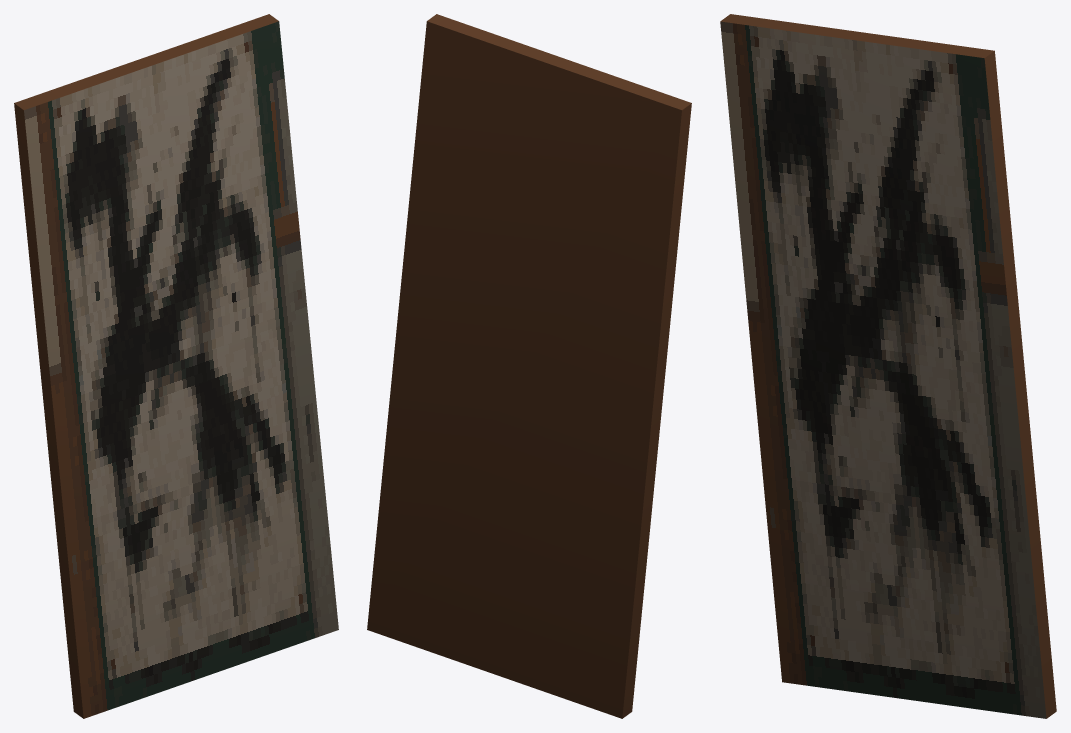
The model's file is prop_shuji-2.glb.
3 views of the same model, side by side, from view 1: azimuth 30°, elevation 25°; view 2: azimuth 150°, elevation 25°; view 3: azimuth 330°, elevation 25° (orthographic). The views are drawn at different scales.
Visible parts, largest first — view 1: prop_shuji-2; view 2: prop_shuji-2; view 3: prop_shuji-2.
Part boxes in pixels (x1=…): prop_shuji-2: x1=14, y1=14, x2=338, y2=718; prop_shuji-2: x1=367, y1=14, x2=691, y2=718; prop_shuji-2: x1=720, y1=14, x2=1056, y2=718.
Size of the model in its own units: 0.3684 by 0.7265 by 0.02.
1 material, 1 textured.
